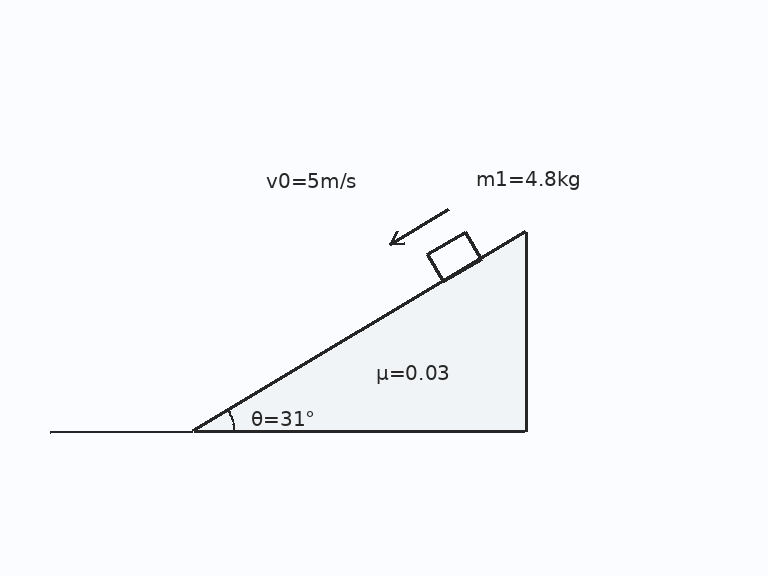block: (424, 229, 483, 283)
ramp: (192, 230, 528, 433)
